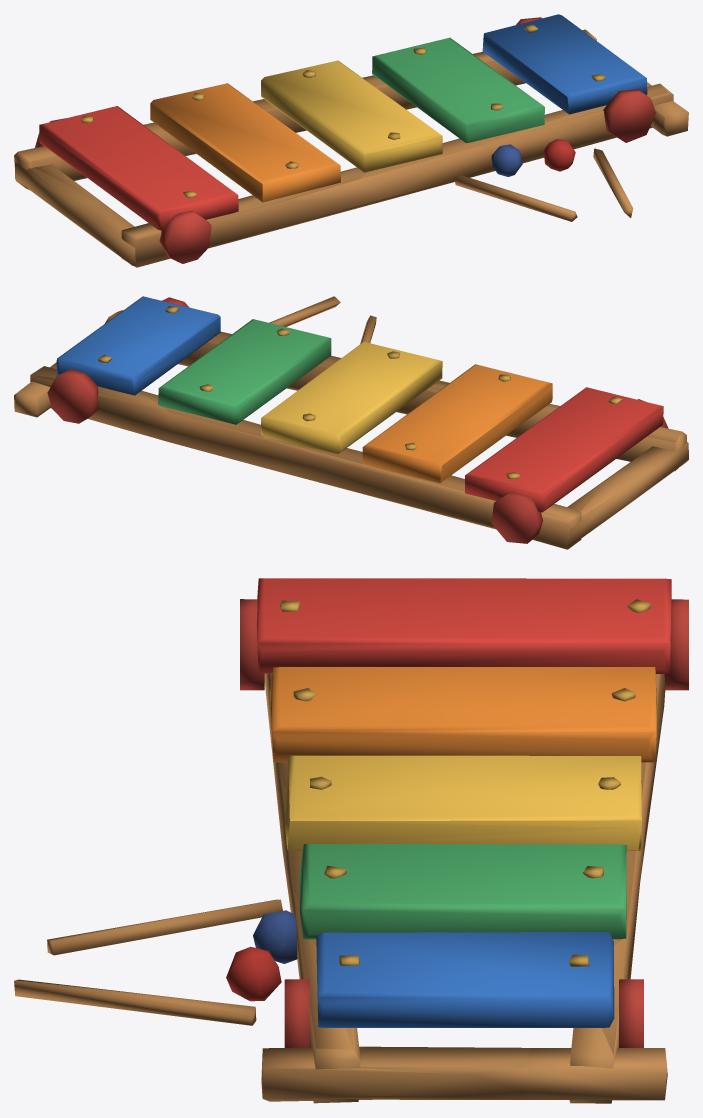
The model's file is den_xylophone_lod2.glb.
The picture shows the model from 3 angles, top to bottom: view 1: azimuth 30°, elevation 25°; view 2: azimuth 150°, elevation 25°; view 3: azimuth 270°, elevation 25°; orthographic projection. The views are drawn at different scales.
Parts seen in each view (by area): view 1: den_xylophone.001; view 2: den_xylophone.001; view 3: den_xylophone.001.
Boxes of the visible parts, x1,y1,x2,y2 form: den_xylophone.001: [14, 14, 688, 267]; den_xylophone.001: [14, 296, 688, 549]; den_xylophone.001: [14, 578, 688, 1103].
Bounding box in the file's own units: 22.04 × 2.14 × 13.53.
